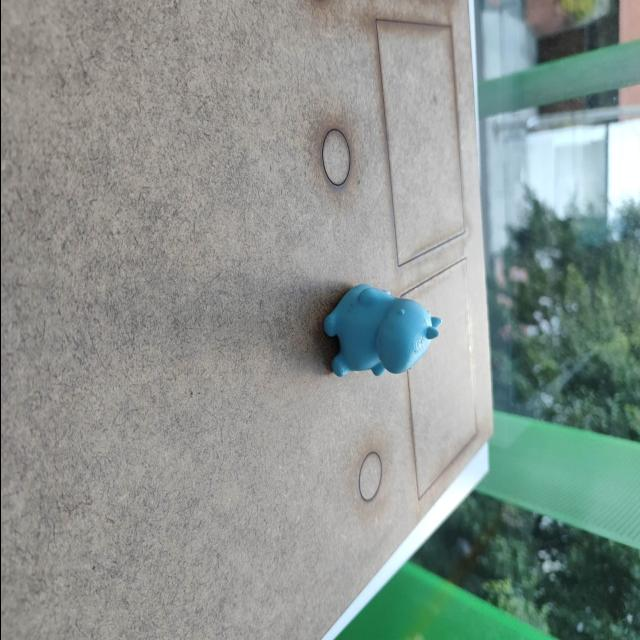DINO: (306, 281, 456, 396)
